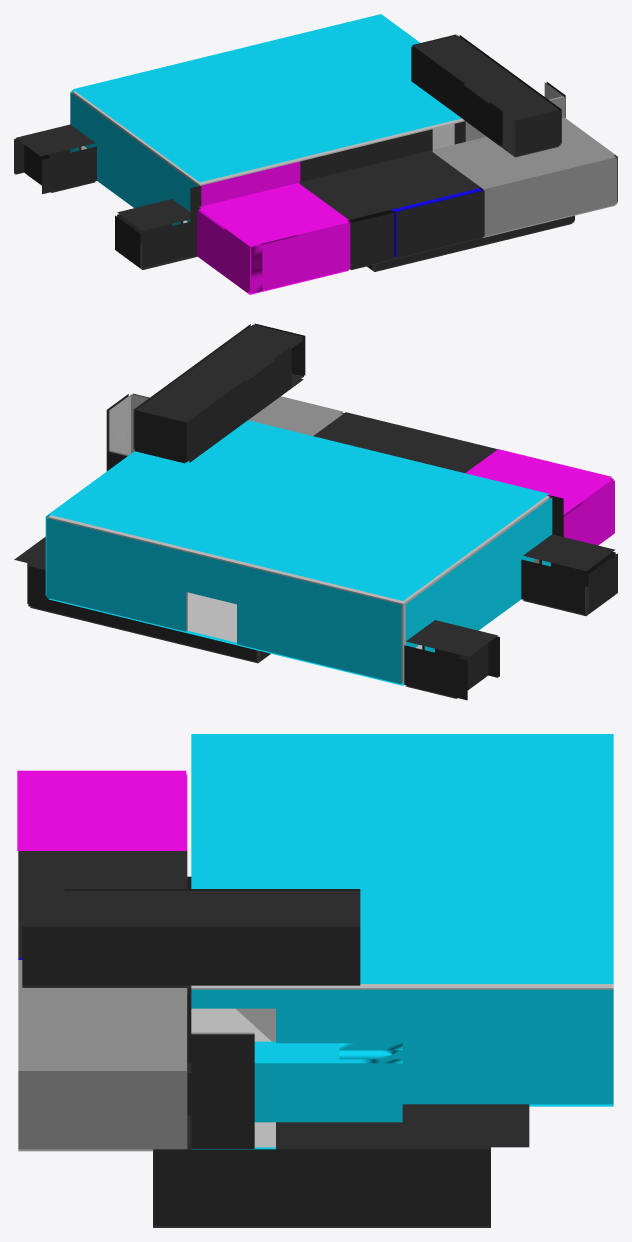
File: Complete level.FBX
3 views of the same model, one above another, from view 1: azimuth 30°, elevation 25°; view 2: azimuth 150°, elevation 25°; view 3: azimuth 270°, elevation 25° (orthographic). The views are drawn at different scales.
Visible parts, largest first — view 1: Lobby, Kitchen, wall_3x4_002[28144], wall_3x4_002[31090], lobby_walls, kitchenCloset, BathroomLeft, BathroomRight, wall_4x2_002[21500], wall_3x4_018[32350], ceiling_4x4_051[22550], ceiling_4x4_058[20794] (+6 smaller); view 2: Lobby, lobby_walls, Kitchen, BathroomLeft, BathroomRight, wall_4x2_002[21500], wall_3x4_002[31090], wall_3x4_006[21032], wall_3x4_002[28144], kitchenCloset, ceiling_4x4_051[22550], ceiling_4x4_058[20794] (+7 smaller); view 3: Lobby, lobby_walls, wall_3x4_002[28144], wall_4x2_002[21500], Kitchen, wall_4x2_004[25286], kitchenCloset, wall_3x4_005[28222], wall_3x4_020[21516], wall_3x4_022[24466], wall_3x4_021[27846], ceiling_4x4_058[20794] (+13 smaller).
Boxes of the visible parts, x1=… form: Lobby: x1=73, y1=14, x2=463, y2=223; Kitchen: x1=190, y1=161, x2=351, y2=294; wall_3x4_002[28144]: x1=433, y1=97, x2=617, y2=237; wall_3x4_002[31090]: x1=342, y1=129, x2=484, y2=259; lobby_walls: x1=70, y1=82, x2=565, y2=225; kitchenCloset: x1=298, y1=151, x2=394, y2=269; BathroomLeft: x1=115, y1=199, x2=197, y2=269; BathroomRight: x1=14, y1=124, x2=96, y2=194; wall_4x2_002[21500]: x1=367, y1=215, x2=574, y2=271; wall_3x4_018[32350]: x1=515, y1=110, x2=560, y2=155; ceiling_4x4_051[22550]: x1=465, y1=72, x2=533, y2=103; ceiling_4x4_058[20794]: x1=490, y1=91, x2=558, y2=122; Lobby: x1=48, y1=420, x2=549, y2=685; lobby_walls: x1=45, y1=394, x2=552, y2=684; Kitchen: x1=465, y1=449, x2=614, y2=545; BathroomLeft: x1=521, y1=534, x2=617, y2=615; BathroomRight: x1=404, y1=620, x2=499, y2=700; wall_4x2_002[21500]: x1=27, y1=563, x2=270, y2=663; wall_3x4_002[31090]: x1=313, y1=412, x2=446, y2=460; wall_3x4_006[21032]: x1=134, y1=410, x2=186, y2=463; wall_3x4_002[28144]: x1=132, y1=393, x2=343, y2=435; kitchenCloset: x1=415, y1=437, x2=497, y2=472; ceiling_4x4_051[22550]: x1=195, y1=346, x2=274, y2=381; ceiling_4x4_058[20794]: x1=224, y1=324, x2=303, y2=360; Lobby: x1=191, y1=734, x2=613, y2=1149; lobby_walls: x1=191, y1=988, x2=613, y2=1148; wall_3x4_002[28144]: x1=18, y1=960, x2=187, y2=1151; wall_4x2_002[21500]: x1=153, y1=1008, x2=490, y2=1227; Kitchen: x1=17, y1=770, x2=187, y2=850; wall_4x2_004[25286]: x1=254, y1=1041, x2=402, y2=1122; kitchenCloset: x1=18, y1=851, x2=187, y2=886; wall_3x4_005[28222]: x1=275, y1=926, x2=360, y2=985; wall_3x4_020[21516]: x1=22, y1=926, x2=106, y2=985; wall_3x4_022[24466]: x1=191, y1=926, x2=275, y2=985; wall_3x4_021[27846]: x1=107, y1=926, x2=191, y2=985; ceiling_4x4_058[20794]: x1=22, y1=891, x2=106, y2=926.
Size of the model in its own units: 1520 by 531 by 1126.
